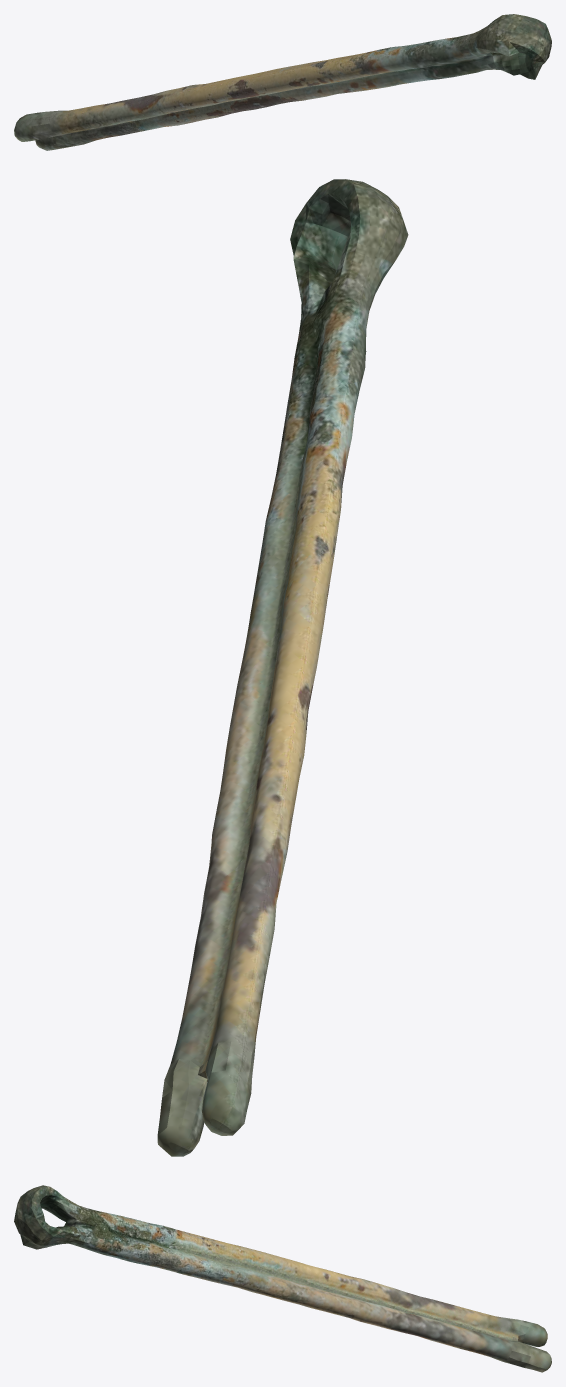
The model's file is antiquity10_101.fbx.
3 renders of one model, top to bottom at view 1: azimuth 30°, elevation 25°; view 2: azimuth 150°, elevation 25°; view 3: azimuth 270°, elevation 25°, orthographic. The views are drawn at different scales.
Parts seen in each view (by area): view 1: 0523; view 2: 0523; view 3: 0523.
Boxes of the visible parts, x1,y1,x2,y2 form: 0523: (14,14,551,150); 0523: (157,179,408,1156); 0523: (14,1185,551,1372).
Bounding box in the file's own units: 18.18 × 20.6 × 38.25.
1 material, 1 textured.
